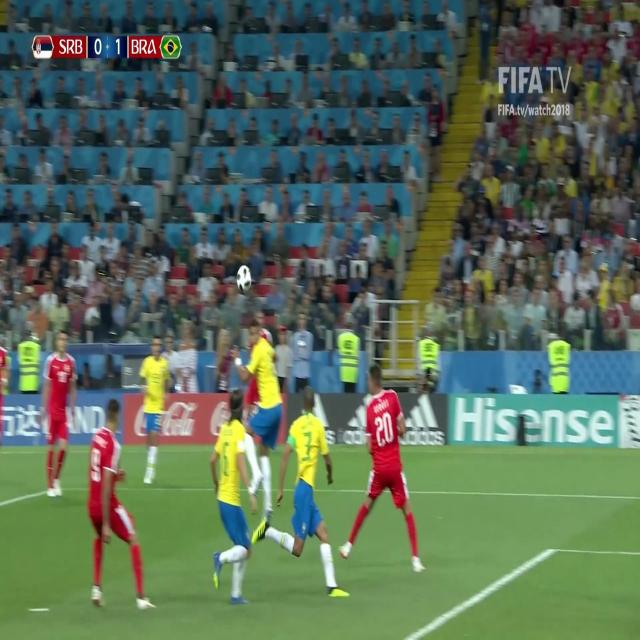ball: (235, 260, 253, 298)
player: (252, 377, 353, 612), (332, 358, 429, 588), (73, 392, 156, 614), (201, 382, 261, 604), (232, 306, 289, 522), (33, 326, 80, 500), (132, 331, 175, 484)
